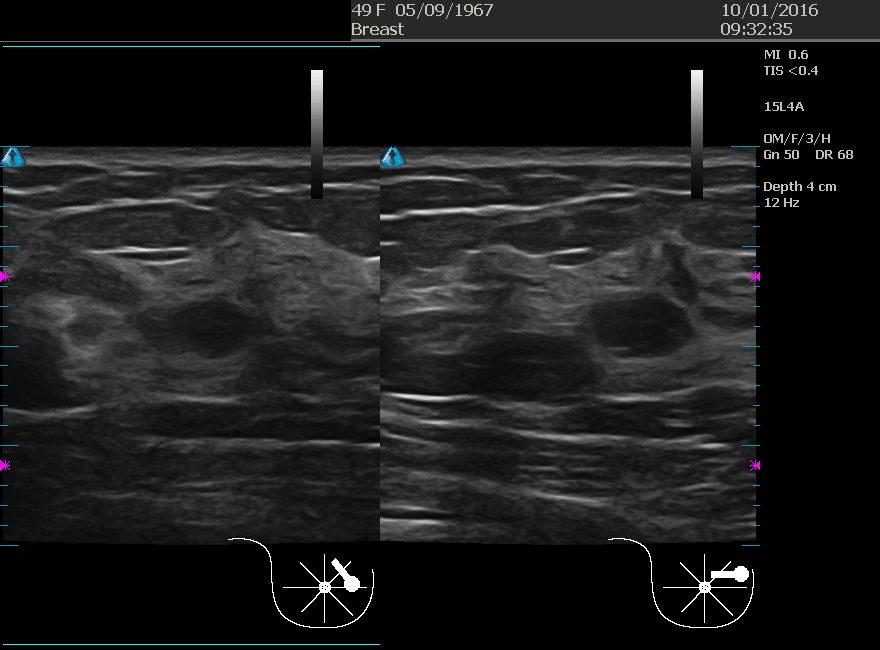Benign: (98, 235, 298, 435), (525, 253, 725, 453)
